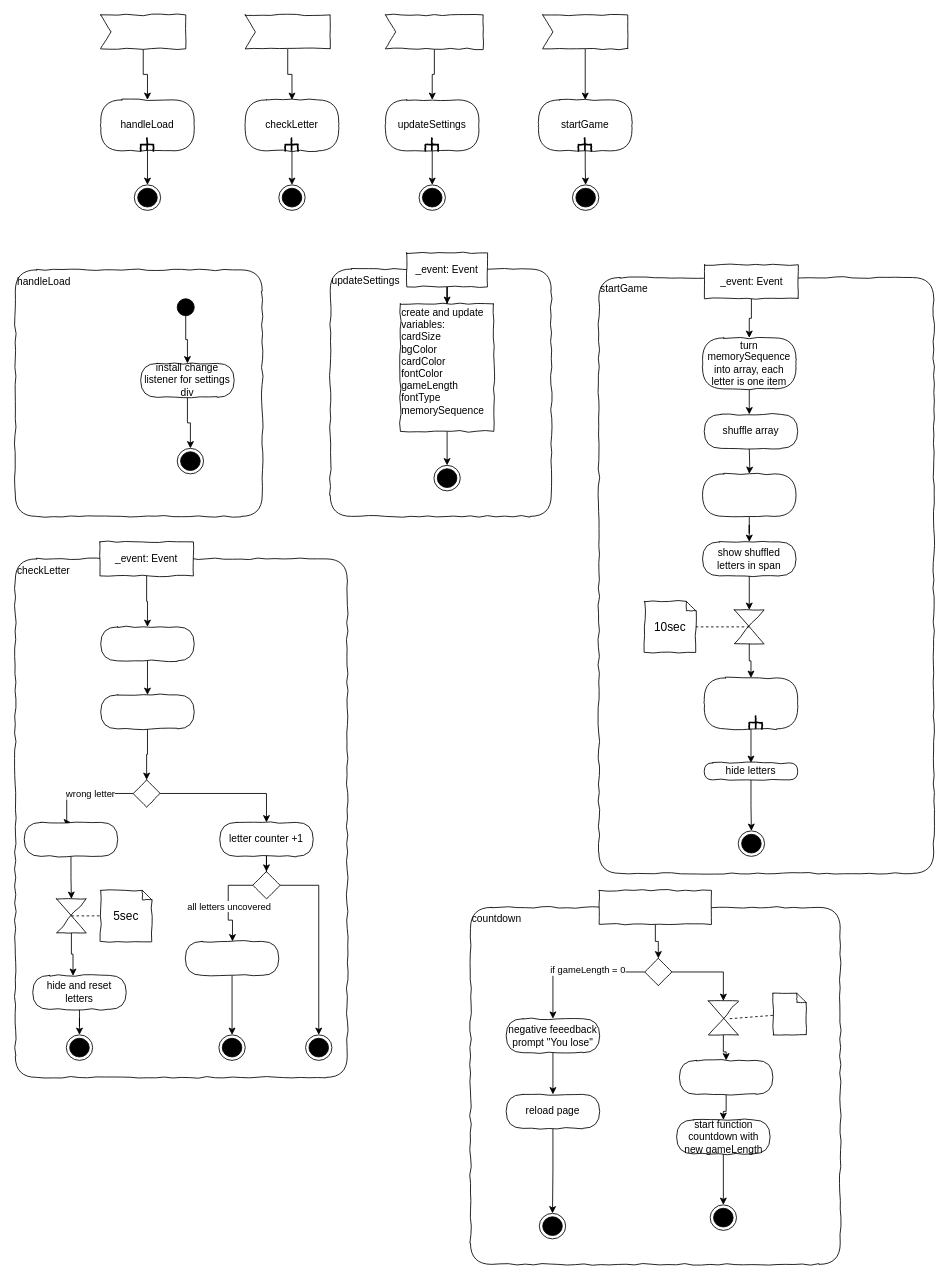
This 949x1279 diagram has some shape labels left out. Here are the shapes that lost their labels. From the top down, the box of each, then its label:
(100, 14, 186, 49): load
(244, 14, 330, 49): click on letter
(385, 14, 483, 49): changeSettings
(542, 14, 628, 49): click start button
(702, 473, 796, 516): create span for each letter, install click listener
(100, 626, 194, 661): get letter from clicked span element
(100, 694, 194, 729): make letter visible
(703, 677, 798, 729): start countdown with gameLength
(23, 822, 118, 856): negative feedback prompt
(598, 890, 711, 924): _gameLength: number
(184, 941, 279, 975): positive feedback prompt "You win!"
(772, 992, 806, 1035): 1sec
(679, 1060, 773, 1094): gameLength -1
